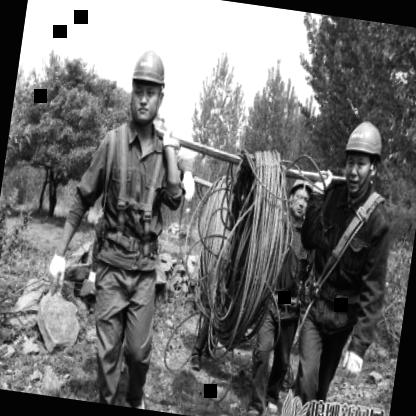helmet: (120, 41, 173, 132), (334, 112, 390, 196), (286, 170, 318, 219)
